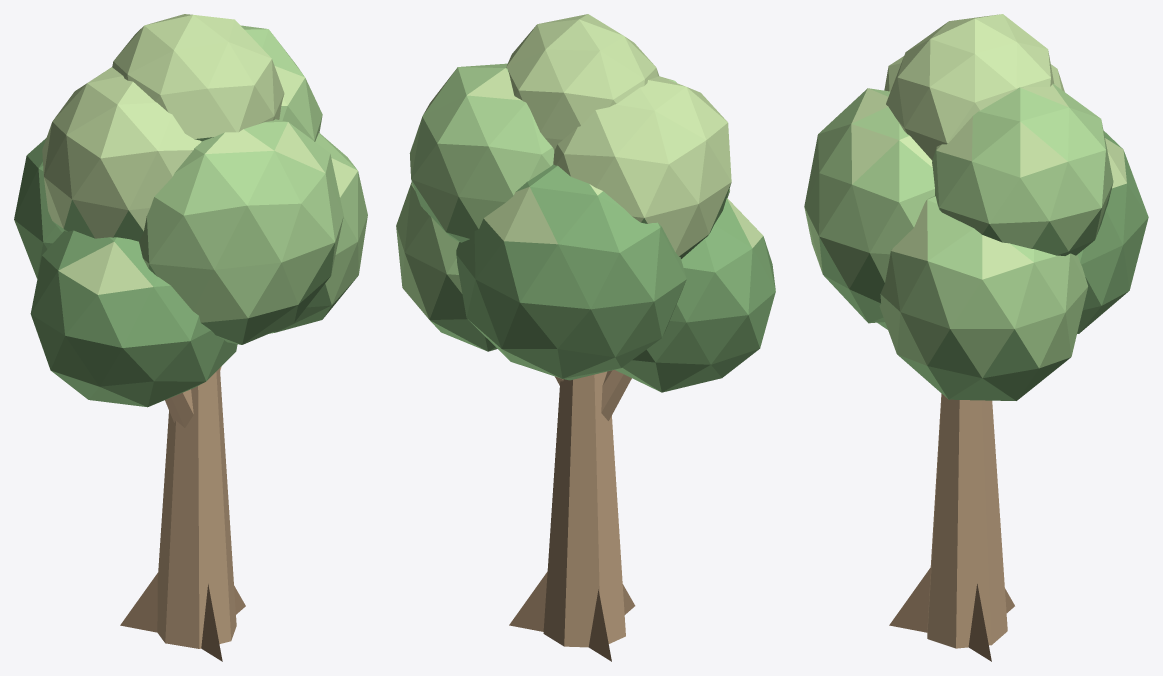
File: prop_tree.glb
The picture shows the model from 3 angles, left to right: view 1: azimuth 30°, elevation 25°; view 2: azimuth 150°, elevation 25°; view 3: azimuth 270°, elevation 25°; orthographic projection.
Parts seen in each view (by area): view 1: prop_tree; view 2: prop_tree; view 3: prop_tree.
Boxes of the visible parts, <box> form: prop_tree: <box>14,14,367,661</box>; prop_tree: <box>396,14,775,661</box>; prop_tree: <box>804,14,1148,661</box>.
Size of the model in its own units: 1 by 1.79 by 0.9104.
